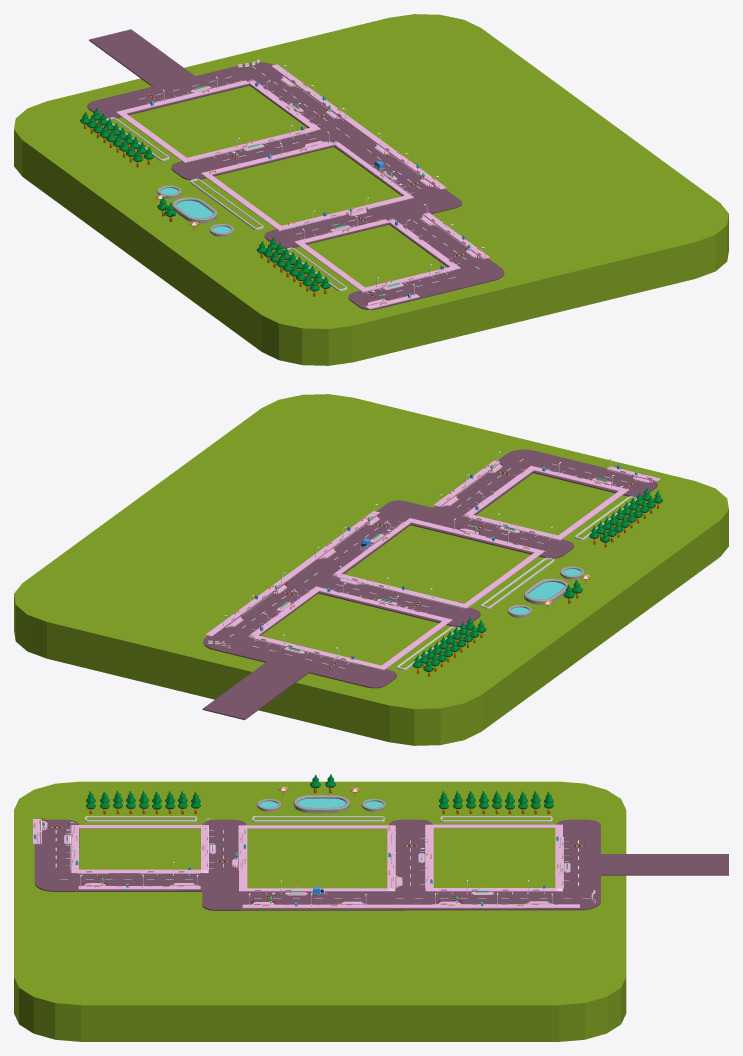
File: Island.fbx
3 renders of one model, top to bottom at view 1: azimuth 30°, elevation 25°; view 2: azimuth 150°, elevation 25°; view 3: azimuth 270°, elevation 25°, orthographic.
Parts seen in each view (by area): view 1: Cube, TRAFFIC_FULL.003, TRAFFIC_FULL.001, TRAFFIC_FULL.002, TRAFFIC_FULL.016, TRAFFIC_FULL.011, TRAFFIC_FULL.021, Cylinder.004, Cube.001; view 2: Cube, TRAFFIC_FULL.003, TRAFFIC_FULL.001, TRAFFIC_FULL.002, TRAFFIC_FULL.016, TRAFFIC_FULL.011, TRAFFIC_FULL.021, Cylinder.004, Cube.001; view 3: Cube, TRAFFIC_FULL.003, TRAFFIC_FULL.001, TRAFFIC_FULL.002, TRAFFIC_FULL.016, TRAFFIC_FULL.011, TRAFFIC_FULL.021, Cylinder.004, Cube.001, Cube.002, Cube.014, TRAFFIC_FULL.019.
Boxes of the visible parts, <box> form: Cube: <box>14,14,728,365</box>; TRAFFIC_FULL.003: <box>87,29,504,309</box>; TRAFFIC_FULL.001: <box>139,59,485,306</box>; TRAFFIC_FULL.002: <box>201,140,413,230</box>; TRAFFIC_FULL.016: <box>116,78,320,162</box>; TRAFFIC_FULL.011: <box>294,218,460,292</box>; TRAFFIC_FULL.021: <box>271,64,446,189</box>; Cylinder.004: <box>172,197,217,223</box>; Cube.001: <box>190,178,263,230</box>; Cube: <box>14,394,728,745</box>; TRAFFIC_FULL.003: <box>202,449,657,720</box>; TRAFFIC_FULL.001: <box>208,451,656,668</box>; TRAFFIC_FULL.002: <box>331,518,544,608</box>; TRAFFIC_FULL.016: <box>247,586,452,670</box>; TRAFFIC_FULL.011: <box>462,465,628,540</box>; TRAFFIC_FULL.021: <box>205,511,379,636</box>; Cylinder.004: <box>524,578,567,604</box>; Cube.001: <box>481,557,554,608</box>; Cube: <box>14,781,626,1041</box>; TRAFFIC_FULL.003: <box>34,819,728,910</box>; TRAFFIC_FULL.001: <box>33,817,595,906</box>; TRAFFIC_FULL.002: <box>239,825,395,891</box>; TRAFFIC_FULL.016: <box>425,824,562,891</box>; TRAFFIC_FULL.011: <box>71,825,208,873</box>; TRAFFIC_FULL.021: <box>242,904,579,908</box>; Cylinder.004: <box>293,795,349,813</box>; Cube.001: <box>252,816,384,822</box>; Cube.002: <box>440,816,552,822</box>; Cube.014: <box>85,816,196,822</box>; TRAFFIC_FULL.019: <box>78,886,200,889</box>.
Size of the model in its own units: 253 by 30.26 by 342.
